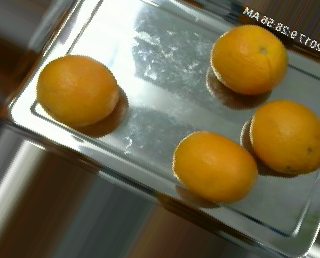Orange: (173, 130, 258, 203), (37, 54, 118, 125), (210, 24, 288, 94), (248, 100, 319, 175)
